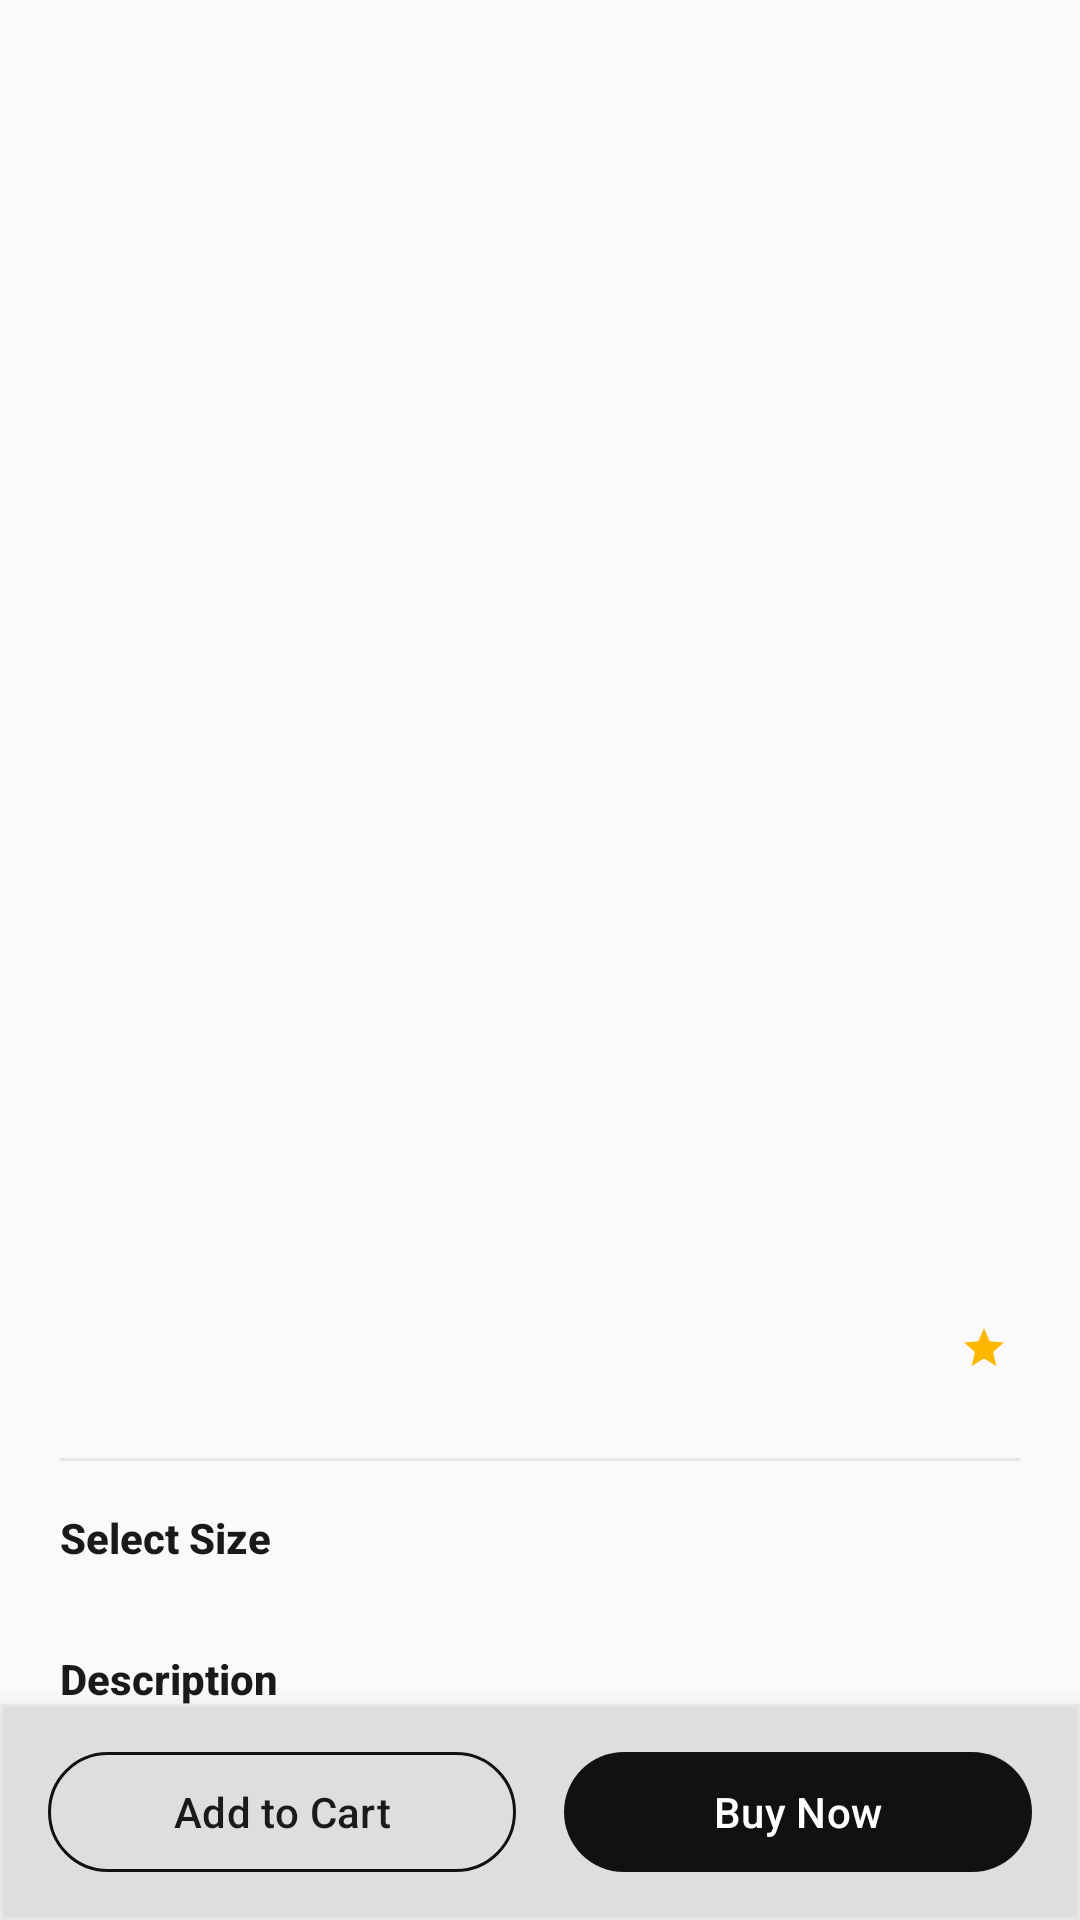

Icon click points for this 1080 x 1920 phone screenshot, format (x,y):
star: (984,1347)
